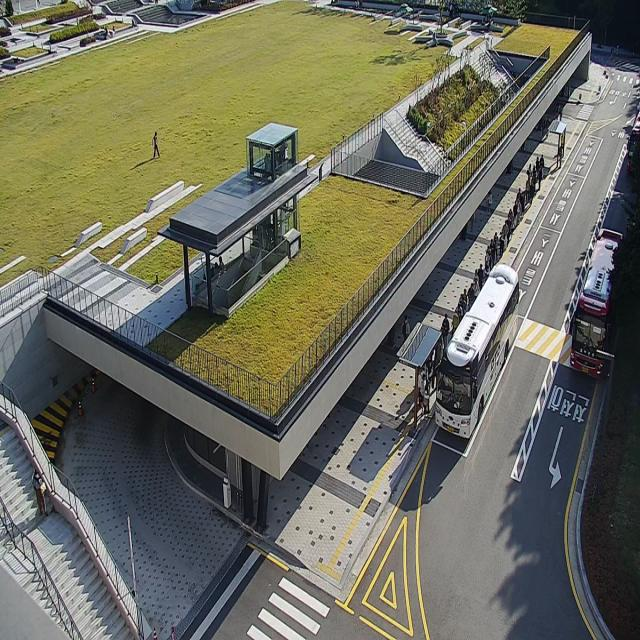queue: (417, 152, 545, 429)
